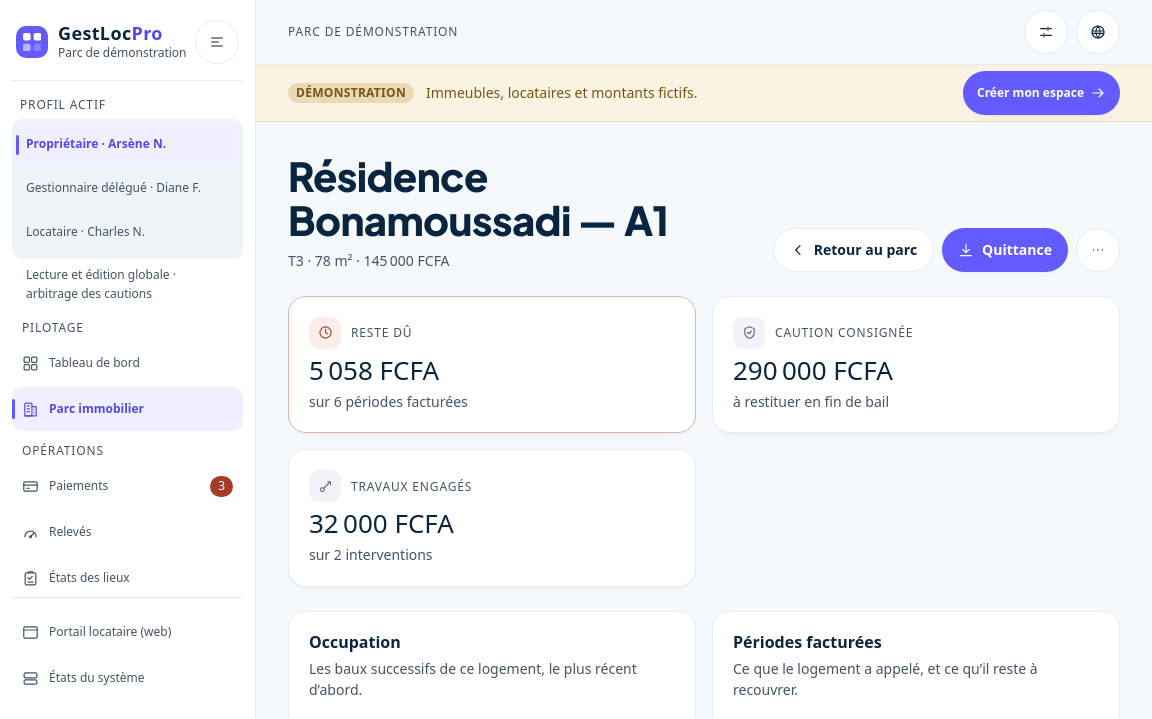
Test: les charges du bail › NOMME L’ABSENCE DE CHARGE, et dit ce qui reste appelé
The width and height of the screenshot is (1152, 719).
Expected: the heading "Résidence Bonamoussadi — A1" is shown, x1=288 y1=150 x2=668 y2=245
Step 1. Click the button named "Autres actions" → (1098, 250), box x1=1076 y1=228 x2=1120 y2=272
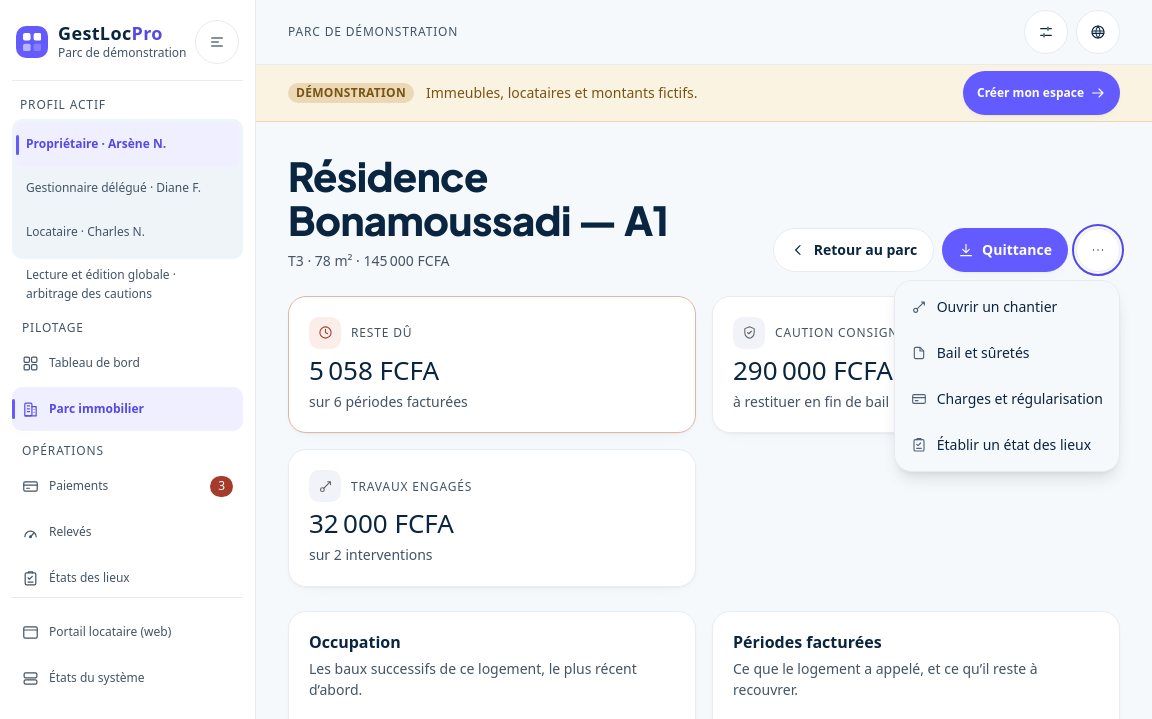
Step 2. Click the menu item "Charges et régularisation" → (1007, 399), box x1=899 y1=377 x2=1115 y2=421
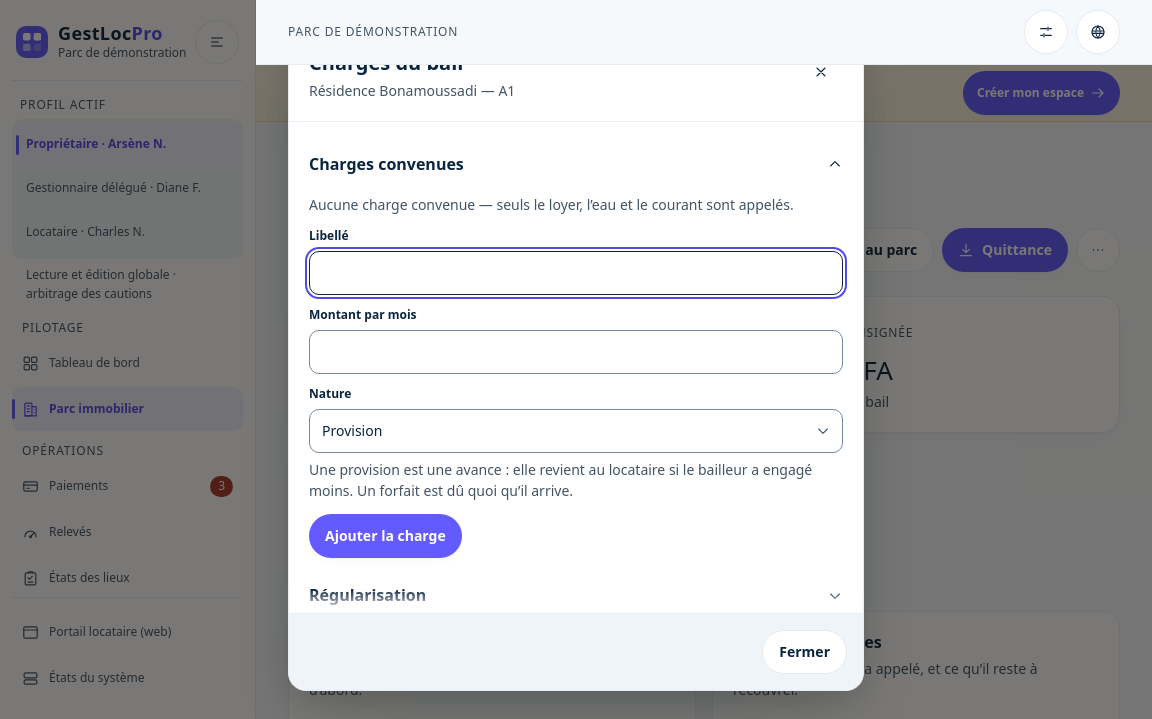
Expected: the text "seuls le loyer, l’eau et le courant sont appelés" is shown, x1=309 y1=196 x2=794 y2=214
